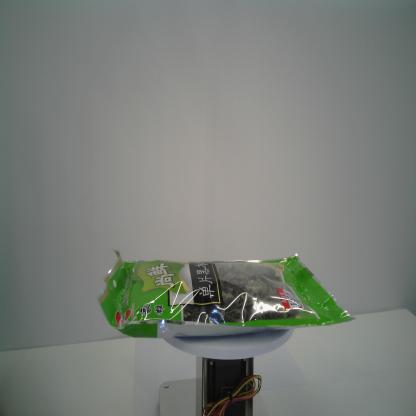Dried Food: (94, 244, 358, 346)
